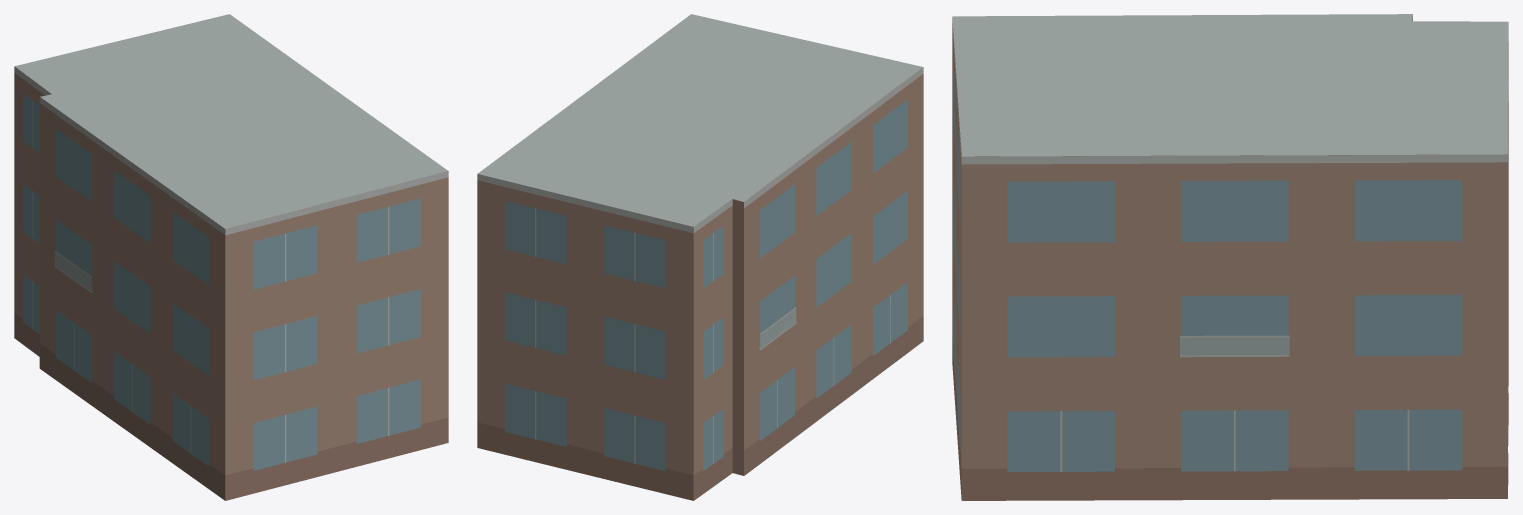
File: survey-upis-32782027.glb
3 views of the same model, side by side, from view 1: azimuth 30°, elevation 25°; view 2: azimuth 150°, elevation 25°; view 3: azimuth 270°, elevation 25° (orthographic). The views are drawn at different scales.
Parts seen in each view (by area): view 1: survey-upis-32782027.tmp; view 2: survey-upis-32782027.tmp; view 3: survey-upis-32782027.tmp.
Part boxes in pixels (x1=…): survey-upis-32782027.tmp: x1=14, y1=14, x2=448, y2=500; survey-upis-32782027.tmp: x1=477, y1=14, x2=923, y2=500; survey-upis-32782027.tmp: x1=952, y1=14, x2=1508, y2=500.
Bounding box in the file's own units: 9.35 × 10.5 × 15.38.
